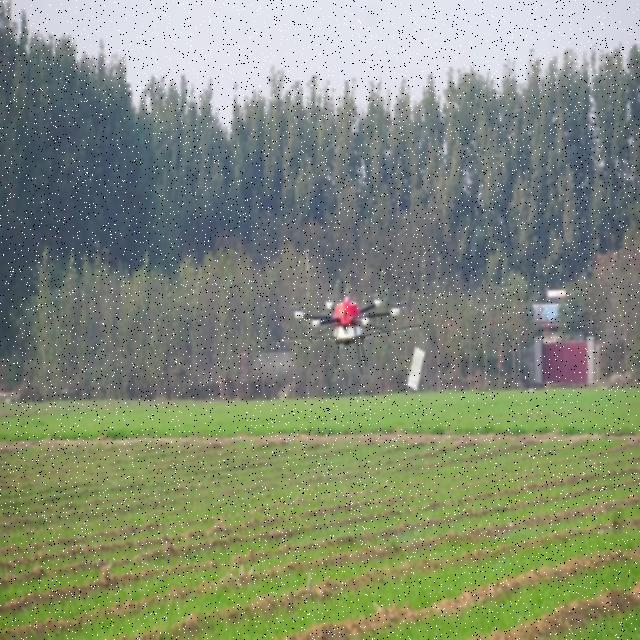UAV: (277, 294, 421, 379)
